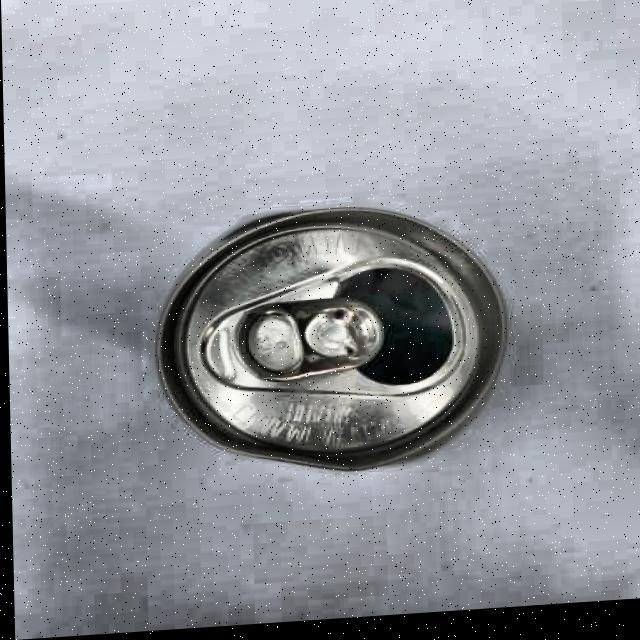metal: (151, 190, 516, 487)
